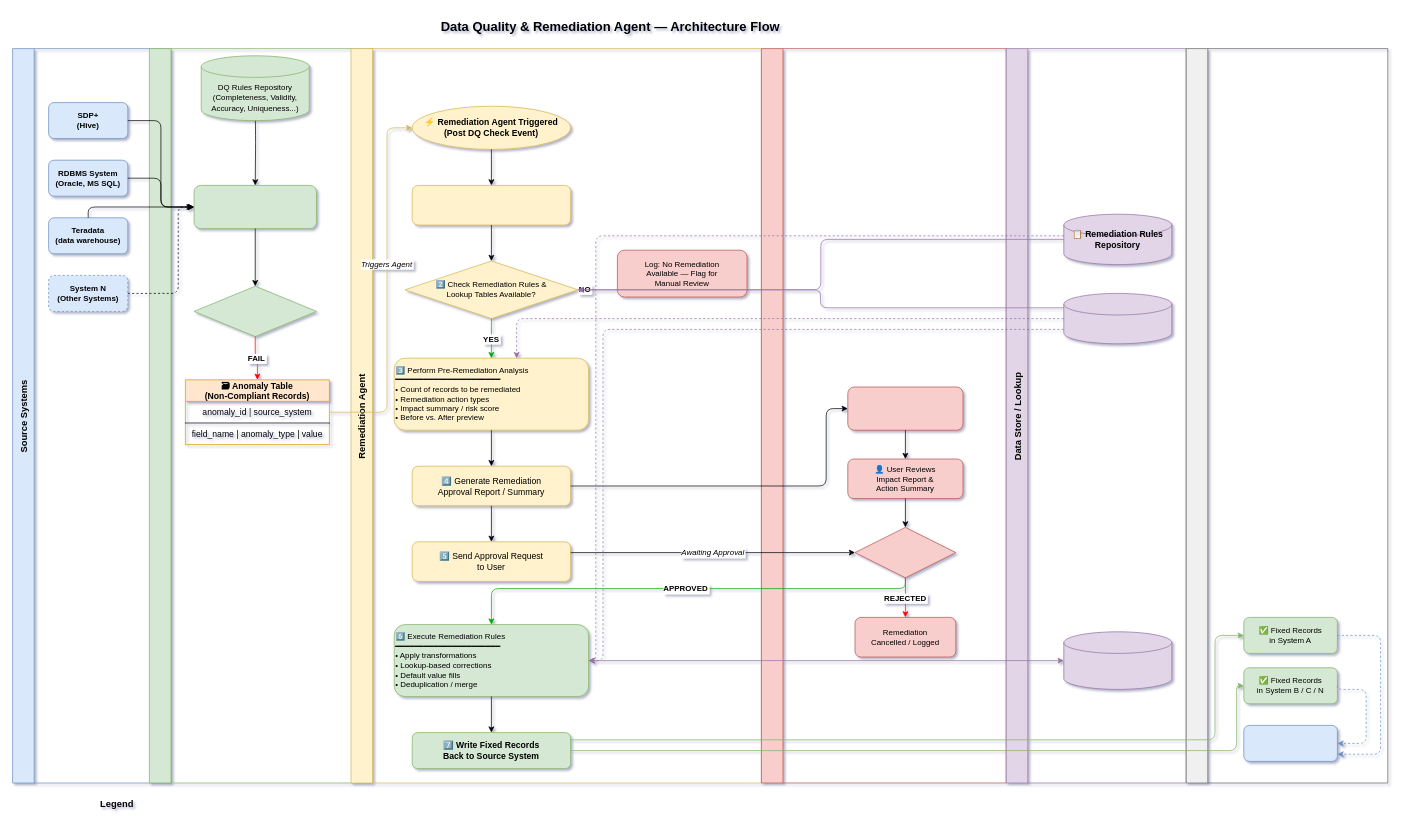
The diagram is 1405 pixels wide and 832 high, and some of its shapes have lost their labels. Each missing label, with the box of its shape:
1️⃣ Fetch Anomaly Records from Anomaly Table: (411, 185, 571, 225)
Data Quality Check Framework: (149, 48, 373, 783)
DQ Check Results (Pass / Fail): (193, 285, 316, 337)
PySpark Data Quality Check Engine: (193, 185, 316, 229)
Target / Source Fix: (1185, 48, 1388, 783)
User / Approver: (761, 48, 1006, 783)
User Approved?: (854, 527, 956, 578)
📝 Audit / Remediation Log (What was fixed, When, By whom): (1063, 631, 1172, 689)
📧 Notification Sent (Email / Dashboard / Chat): (847, 386, 963, 430)
🔄 Re-trigger DQ Check (Validation Pass): (1243, 725, 1337, 761)
🔍 Lookup Tables (Reference Data): (1063, 293, 1172, 344)
